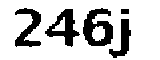2: (10, 5, 45, 50)
4: (43, 6, 81, 50)
6: (83, 7, 116, 52)
j: (113, 7, 138, 60)
